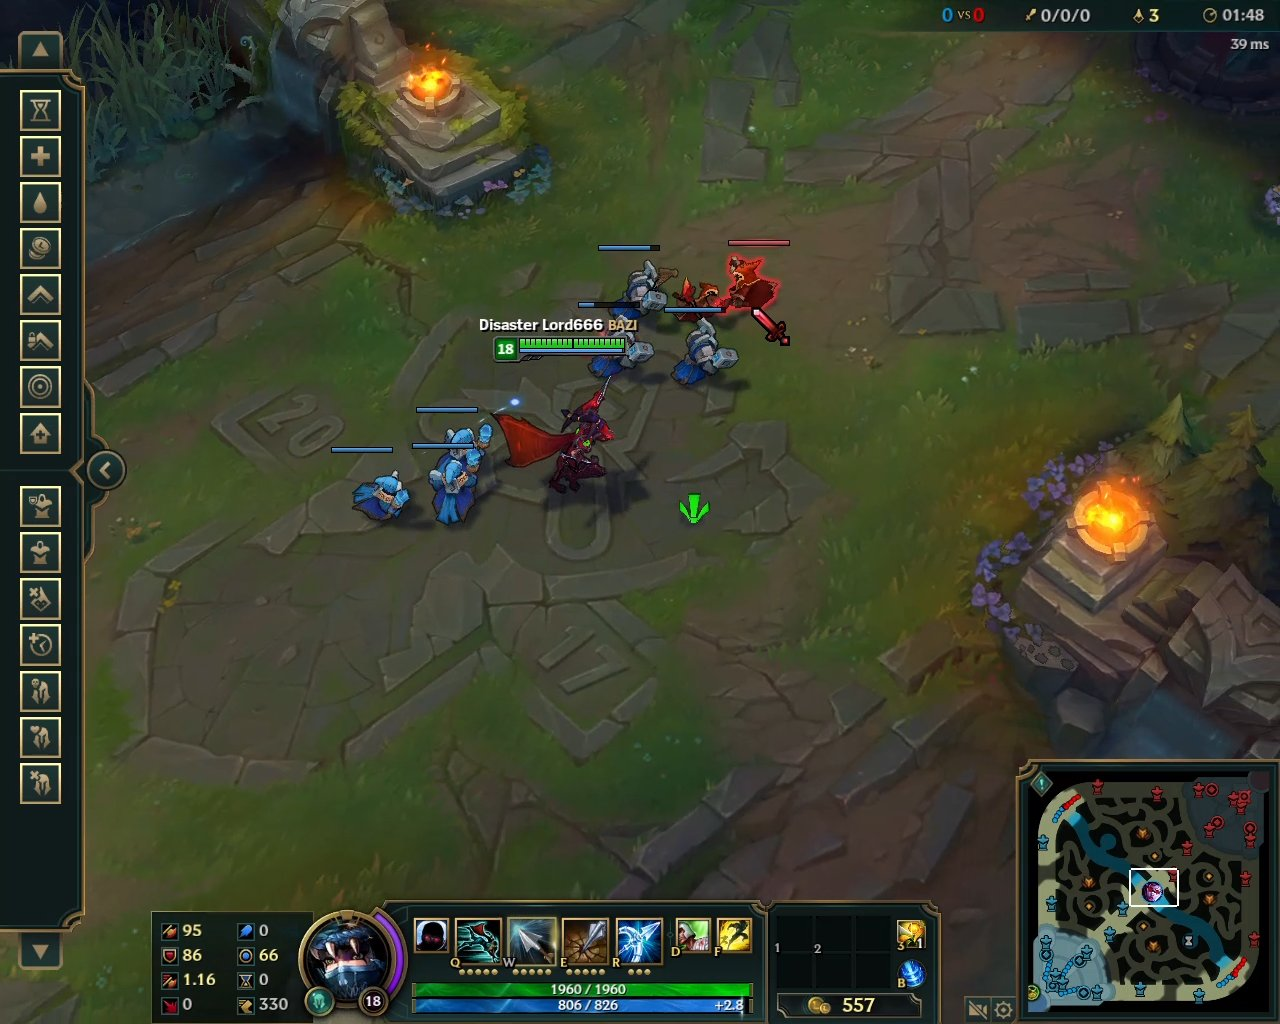EnemyMinion: (708, 239, 792, 319)
Vayne: (490, 372, 616, 503)
